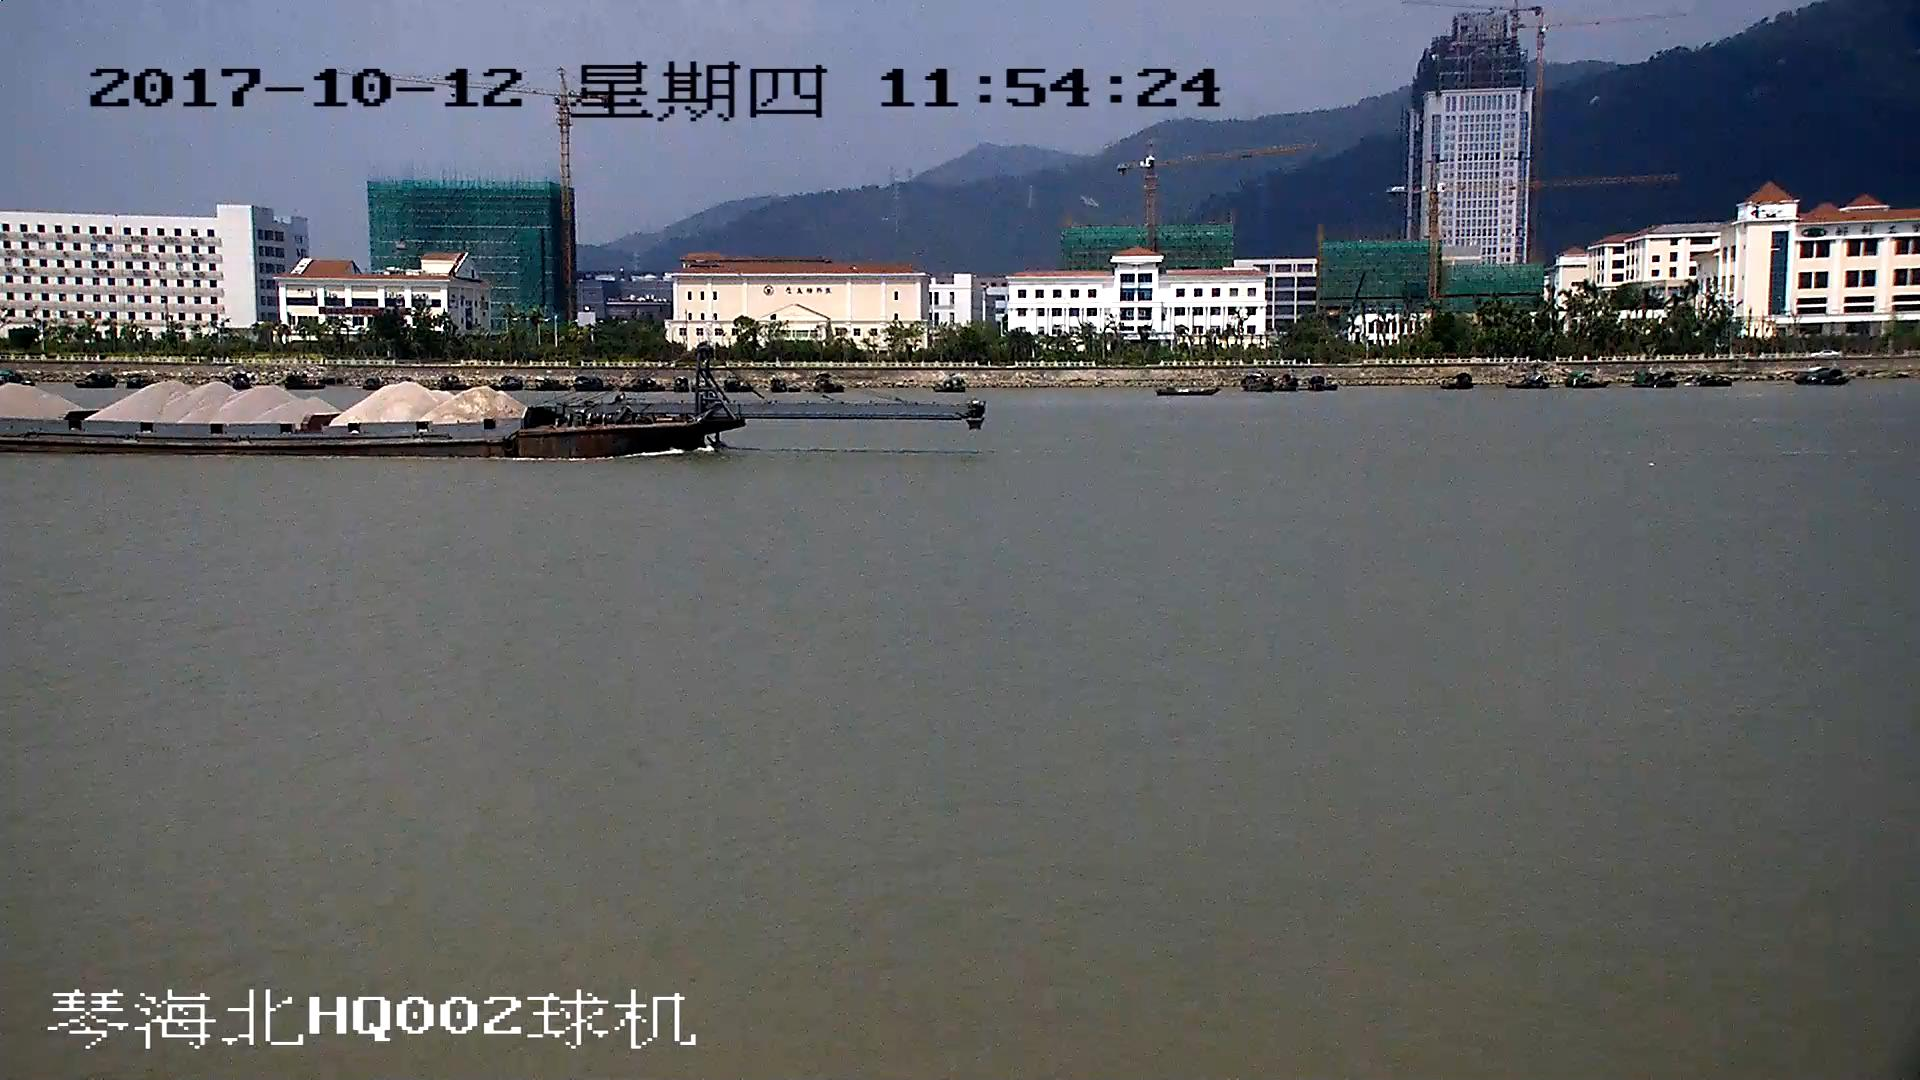ore carrier: (1, 353, 979, 456)
